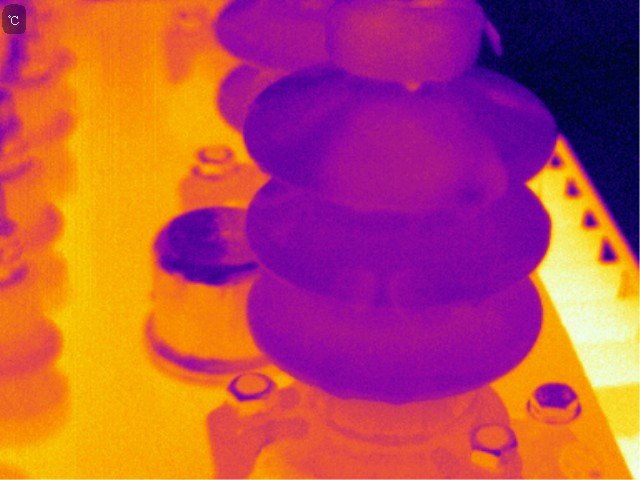Oil: (329, 107, 503, 212), (336, 1, 459, 96)
